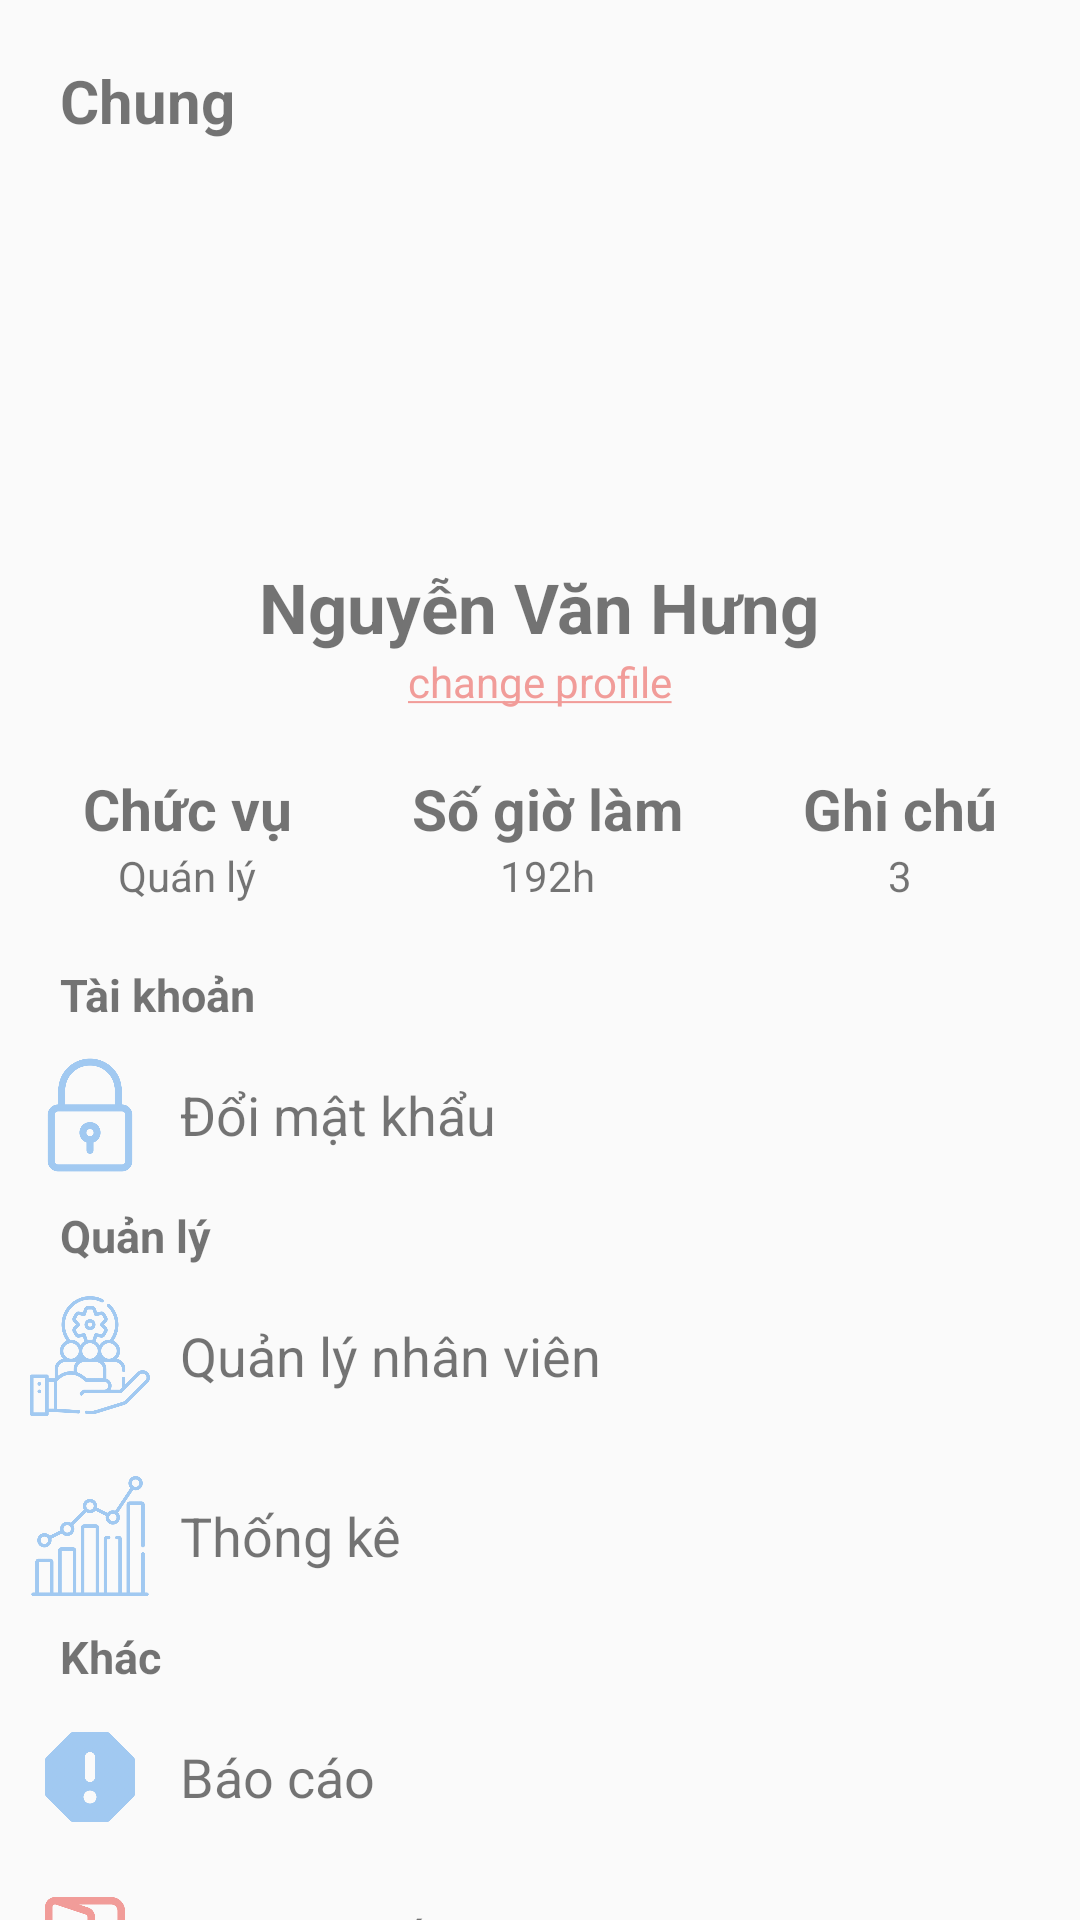

Screen size 1080px×1920px. Icon name, then its box in pixels as detection(x1, y1, x2, y2):
analysis: detection(31, 1476, 149, 1596)
padlock: detection(48, 1058, 132, 1172)
report: detection(45, 1732, 135, 1822)
team management: detection(30, 1296, 150, 1416)
